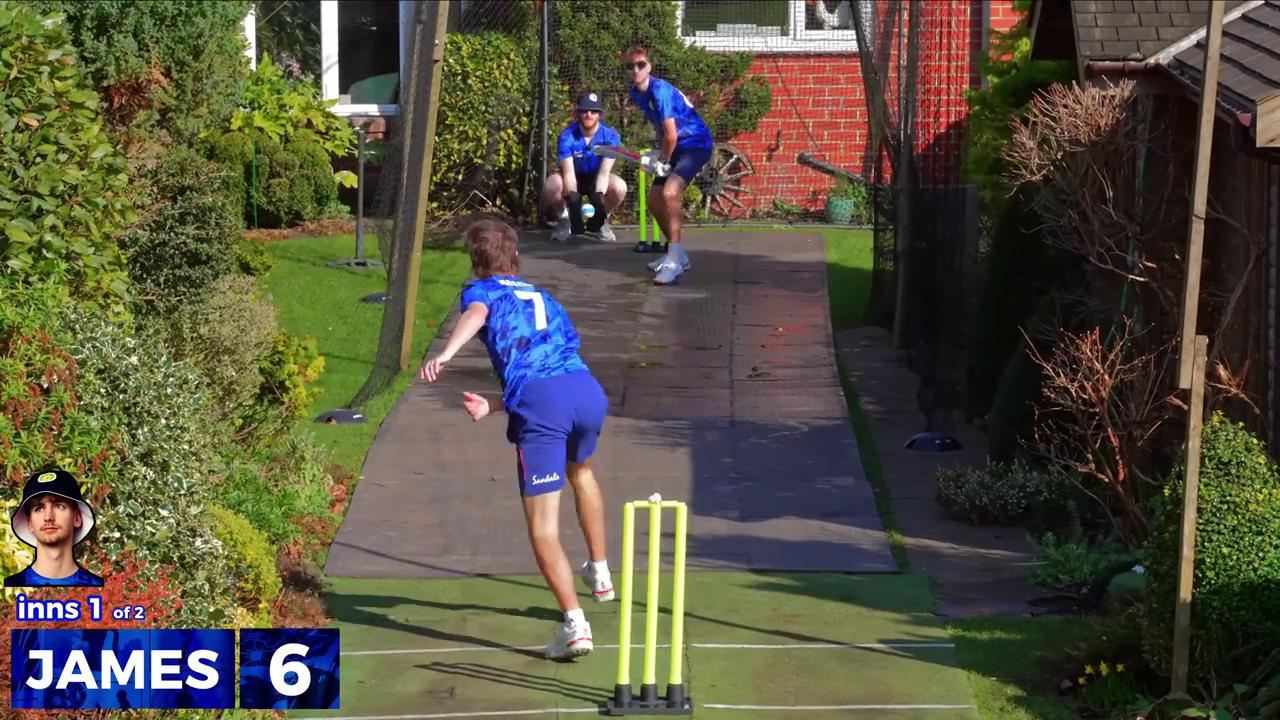ball: (570, 199, 605, 228)
